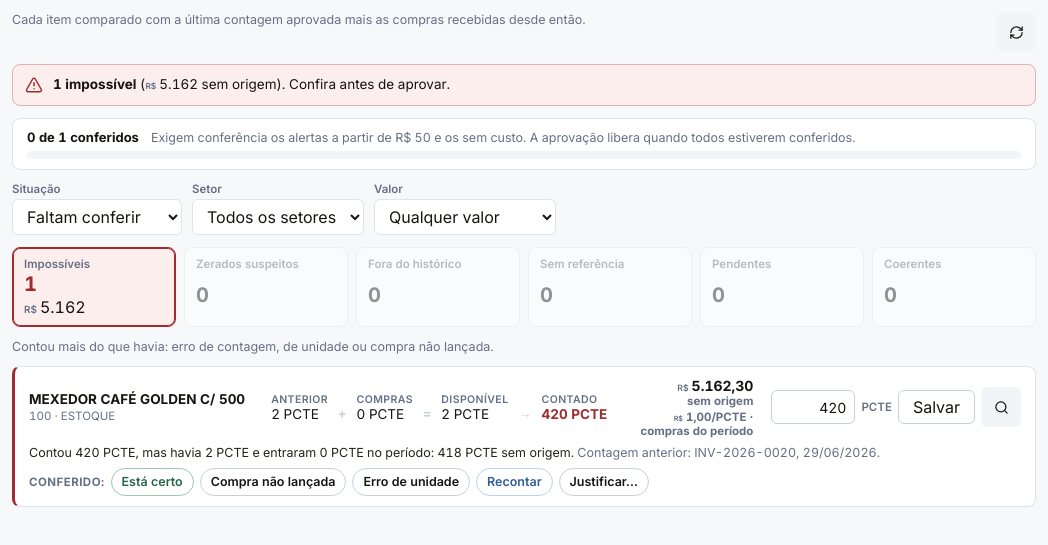
Scenario: ConferenciaInventario › quantidade digitada e nao salva trava os motivos
Replace the text in the field named "quantidade certa de mexedor" with "5" at (813, 407), box left=771, top=390, right=855, bottom=424
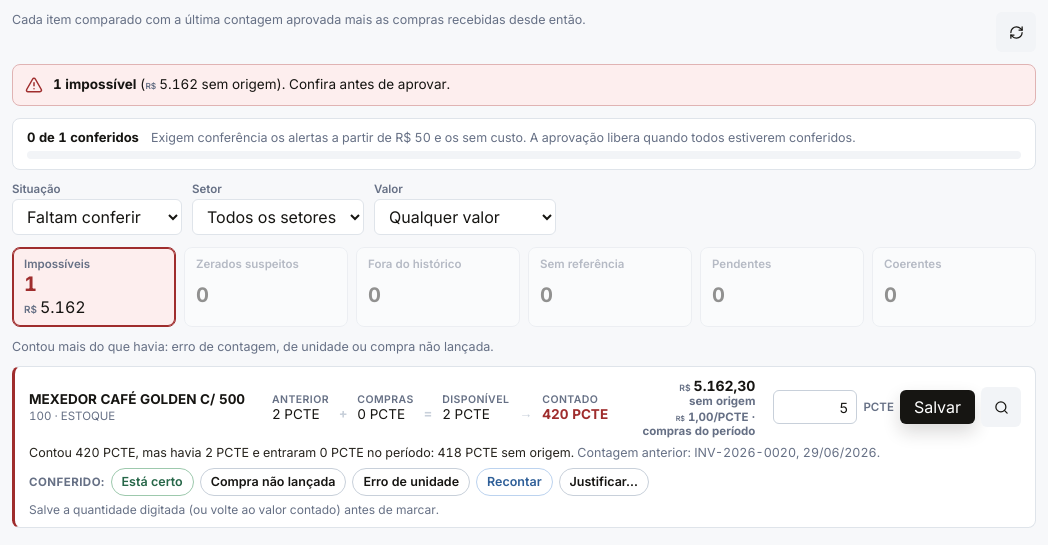
Expected: the button "Está certo" is disabled, left=110, top=468, right=194, bottom=496
Result: the text "Salve a quantidade digitada" is shown at left=29, top=502, right=439, bottom=517
